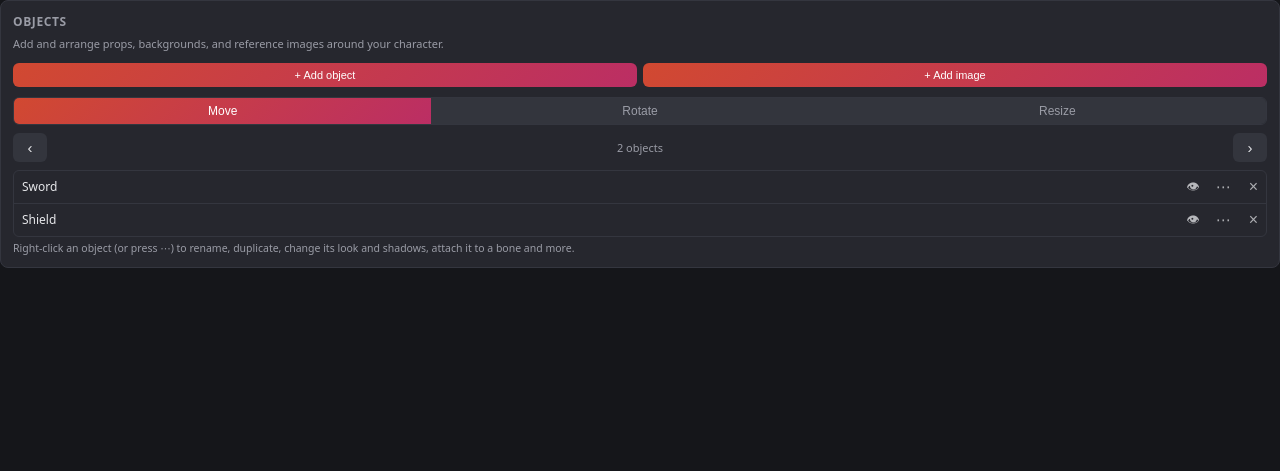
Test: Objects list menu › right-click shows the menu and selects the row
Right-click the text "Sword" at (640,187), box [14,170,1266,204]
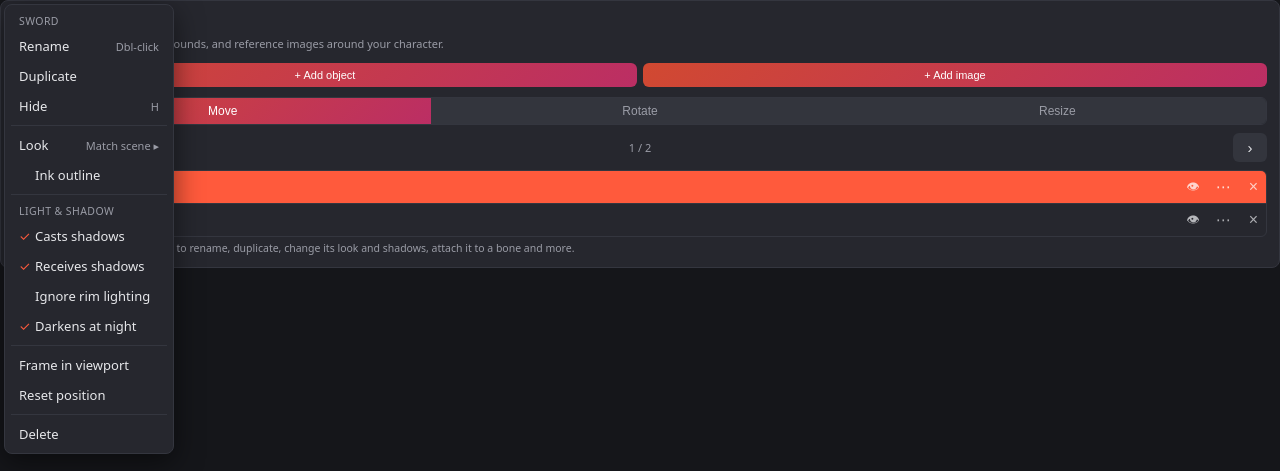
Result: the menu is shown at [4,4,174,454]
Result: the menu item "Rename Dbl-click" is shown at [9,31,169,61]
Result: the menu item "Duplicate" is shown at [9,61,169,91]
